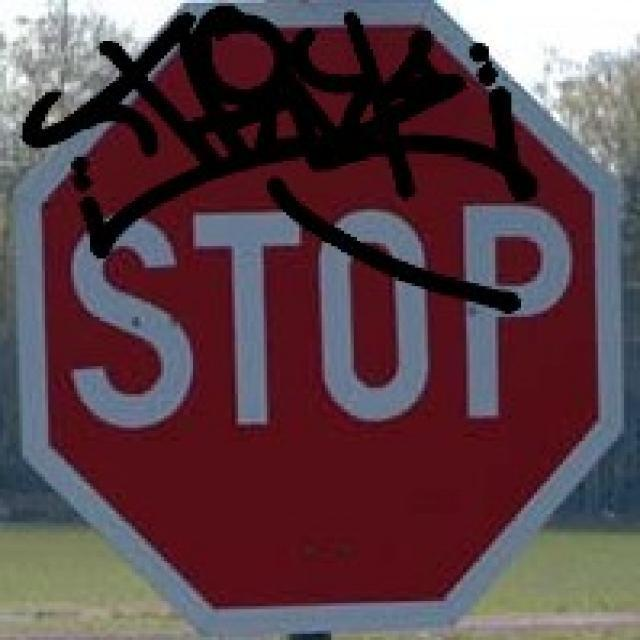Stop-Sign: (39, 30, 596, 604)
